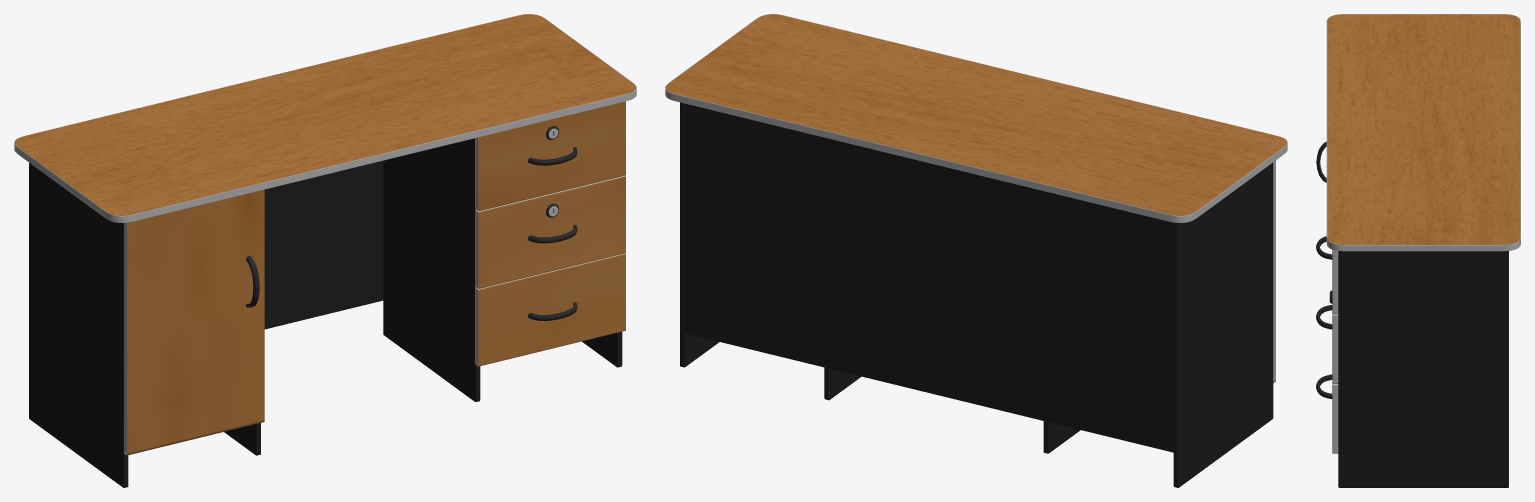
The model's file is table.fbx.
3 views of the same model, side by side, from view 1: azimuth 30°, elevation 25°; view 2: azimuth 150°, elevation 25°; view 3: azimuth 270°, elevation 25° (orthographic). The views are drawn at different scales.
Visible parts, largest first — view 1: connect, table, Drawer3, Drawer1, Drawer2, Drawer; view 2: connect, table, Drawer3; view 3: table, connect, Drawer1, Drawer2, Drawer.
Boxes of the visible parts, x1,y1,x2,y2 form: connect: (29, 138, 622, 487); table: (14, 14, 636, 222); Drawer3: (124, 189, 264, 455); Drawer1: (475, 175, 625, 288); Drawer2: (475, 253, 625, 366); Drawer: (475, 101, 625, 211); connect: (680, 102, 1273, 487); table: (665, 14, 1287, 222); Drawer3: (1273, 160, 1275, 383); table: (1326, 14, 1520, 251); connect: (1338, 251, 1508, 487); Drawer1: (1316, 290, 1338, 383); Drawer2: (1316, 374, 1338, 453); Drawer: (1316, 236, 1338, 314).
Size of the model in its own units: 181 by 91.24 by 67.92.
6 materials, 2 textured.
